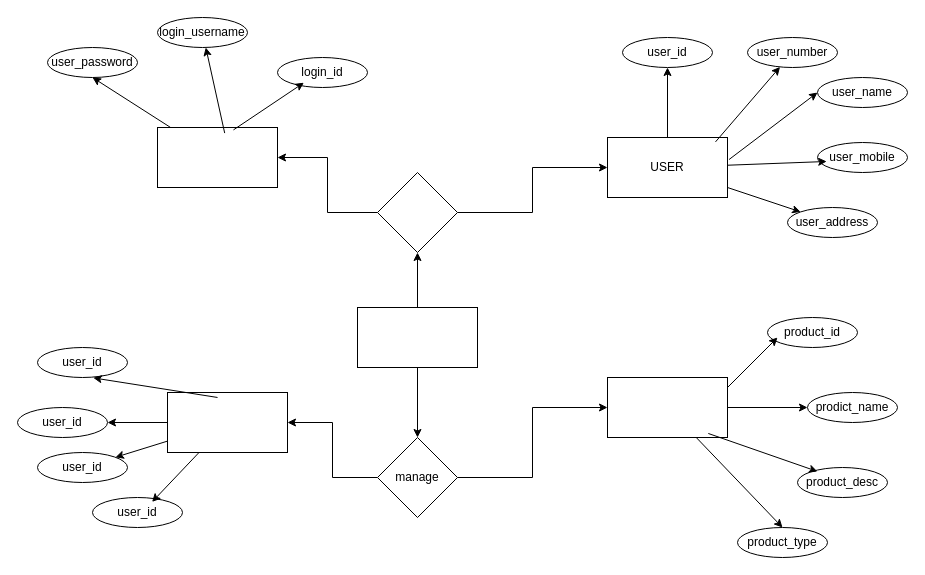
This 925x575 diagram has some shape labels left out. The shapes that lost their labels are listed below. From the top down, each one's centre as x and y in pixels, then its label:
At pixel 217 157: "LOGIN".
At pixel 417 212: "HAS".
At pixel 417 337: "BVENGERS".
At pixel 227 422: "order".
At pixel 667 407: "product".
